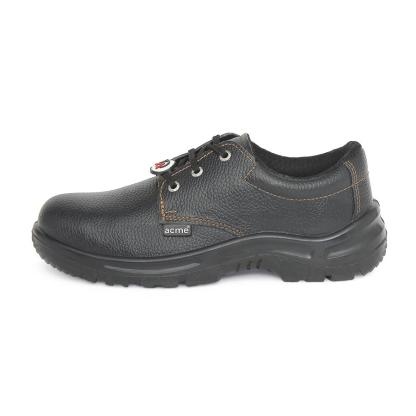bota: (28, 127, 391, 292)
